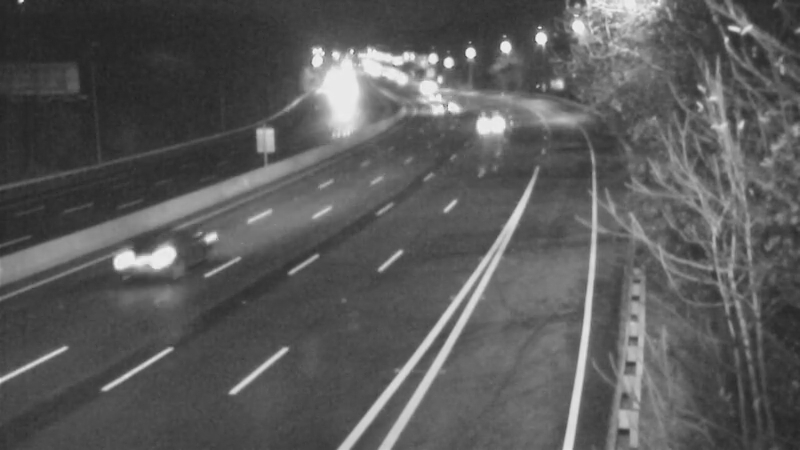vehicle: (102, 219, 182, 299), (400, 62, 450, 112), (408, 75, 458, 125), (429, 81, 479, 131), (467, 100, 517, 150), (310, 77, 360, 127)
